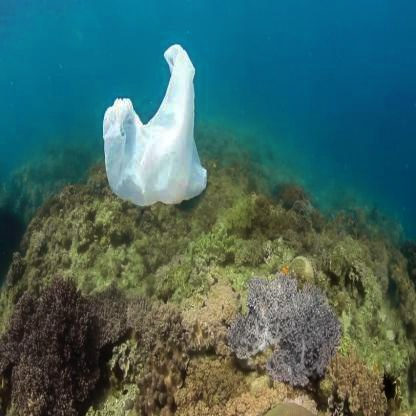pbag: (102, 44, 208, 209)
